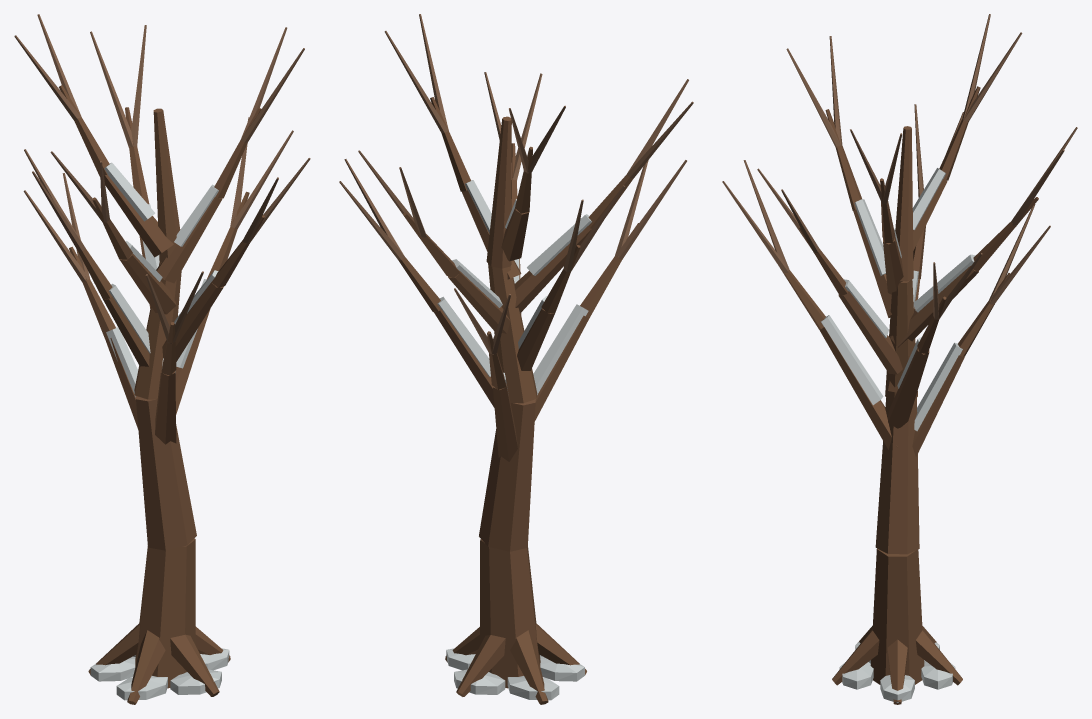
The model's file is tree_plateau_winter.glb.
The picture shows the model from 3 angles, left to right: view 1: azimuth 30°, elevation 25°; view 2: azimuth 150°, elevation 25°; view 3: azimuth 270°, elevation 25°; orthographic projection. The views are drawn at different scales.
Visible parts, largest first — view 1: branches, snow; view 2: branches, snow; view 3: branches, snow.
Boxes of the visible parts, box(x1,y1,x2,y2) form: branches: box(14, 14, 310, 704); snow: box(90, 162, 229, 700); branches: box(339, 14, 693, 704); snow: box(437, 180, 591, 700); branches: box(722, 14, 1077, 704); snow: box(821, 168, 974, 702).
Size of the model in its own units: 0.6117 by 1.25 by 0.6549.
